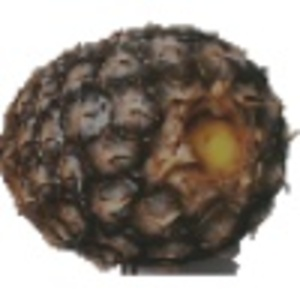abacaxi: (4, 19, 289, 261)
